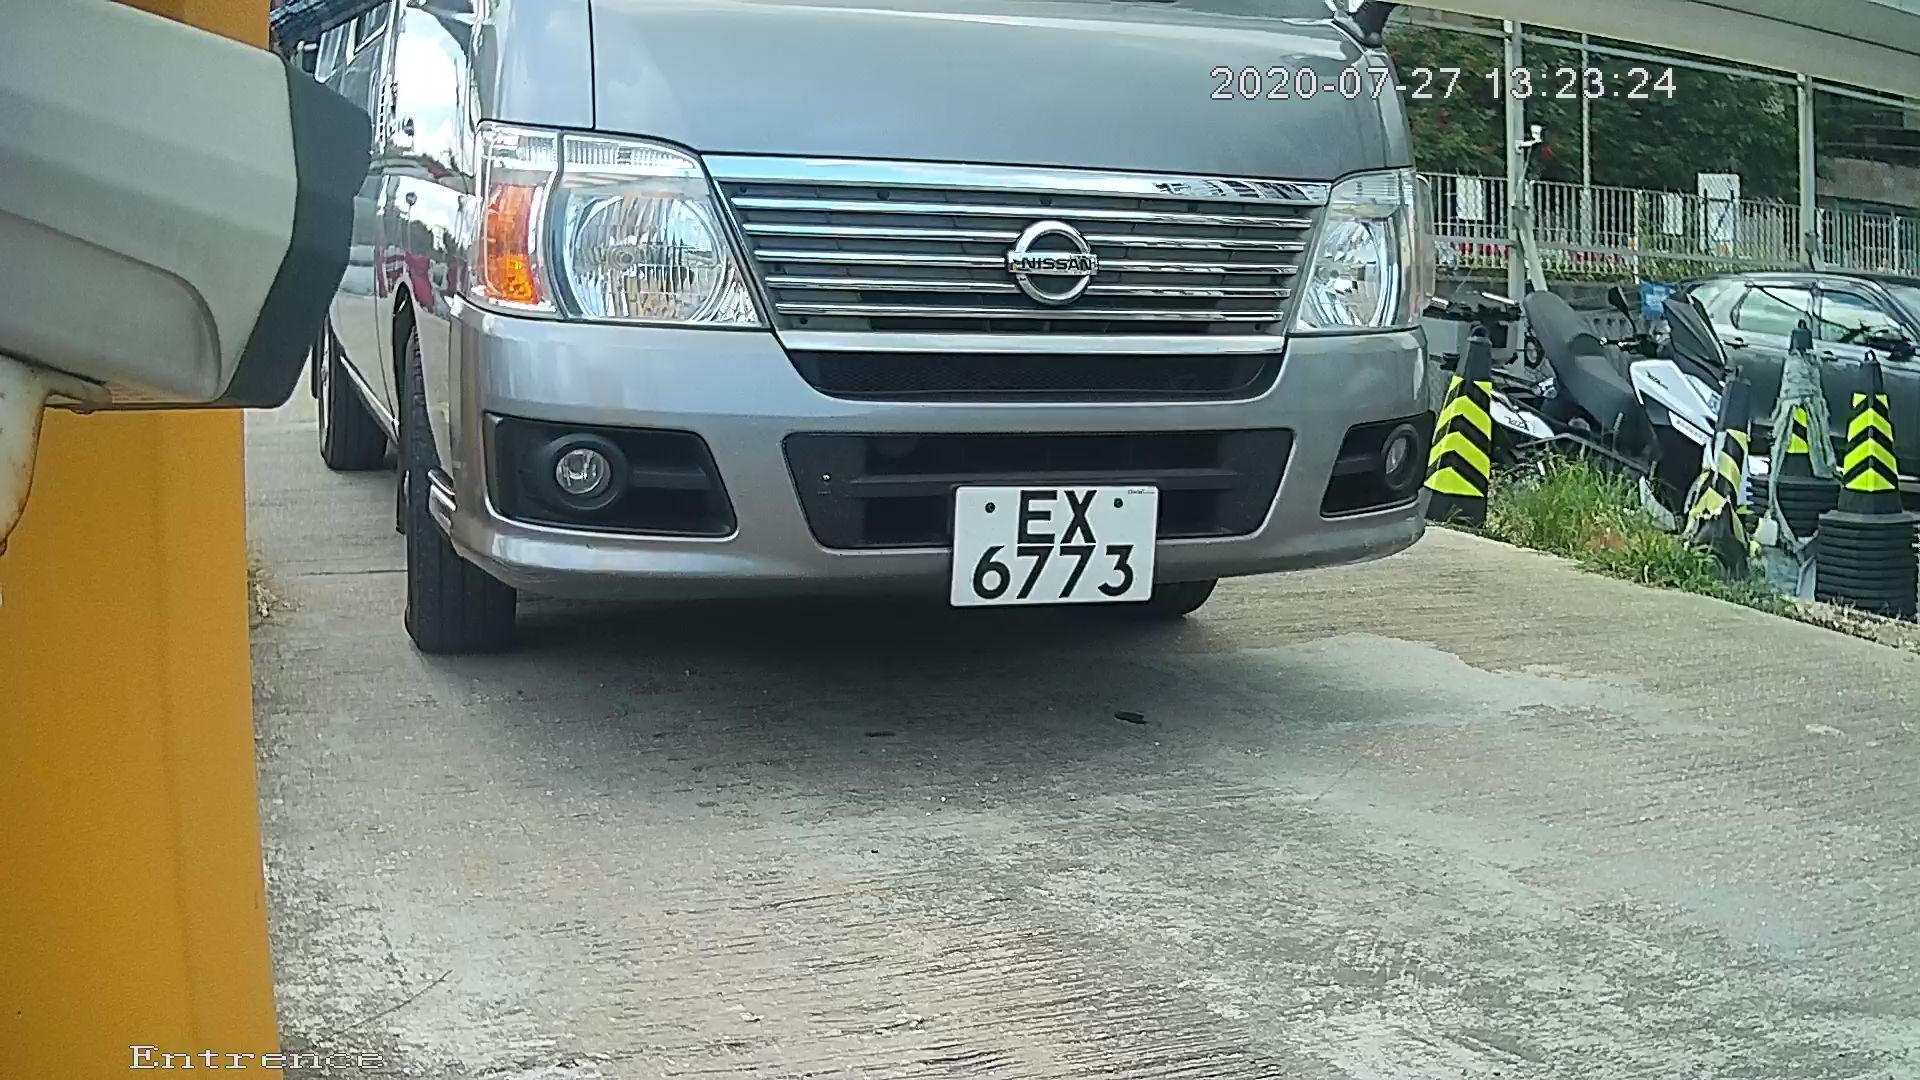License Plate: (918, 473, 1175, 618)
